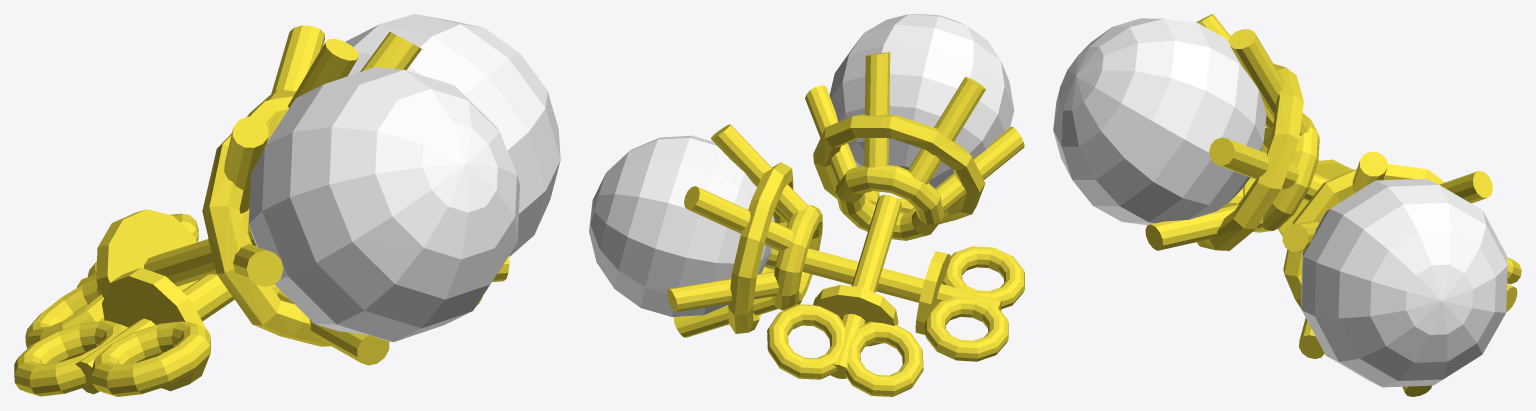
Rendered from pearl-earrings.glb.
3 renders of one model, left to right at view 1: azimuth 30°, elevation 25°; view 2: azimuth 150°, elevation 25°; view 3: azimuth 270°, elevation 25°, orthographic. The views are drawn at different scales.
Parts seen in each view (by area): view 1: Node; view 2: Node; view 3: Node.
Boxes of the visible parts, <box> form: Node: <box>14,14,560,396</box>; Node: <box>589,14,1024,396</box>; Node: <box>1053,14,1521,396</box>.
Bounding box in the file's own units: 0.3492 × 0.2324 × 0.3283.
